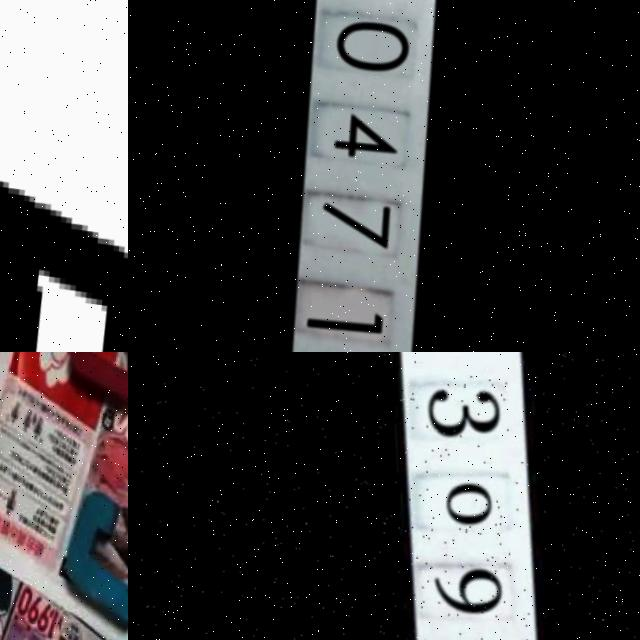0: (417, 462, 519, 539), (320, 8, 423, 82)
1: (295, 279, 388, 349)
3: (407, 368, 520, 454)
4: (318, 102, 412, 168)
5: (0, 39, 128, 352)
7: (302, 187, 403, 257)
9: (411, 549, 520, 631)
J: (55, 491, 128, 633)
O: (63, 352, 128, 419)
